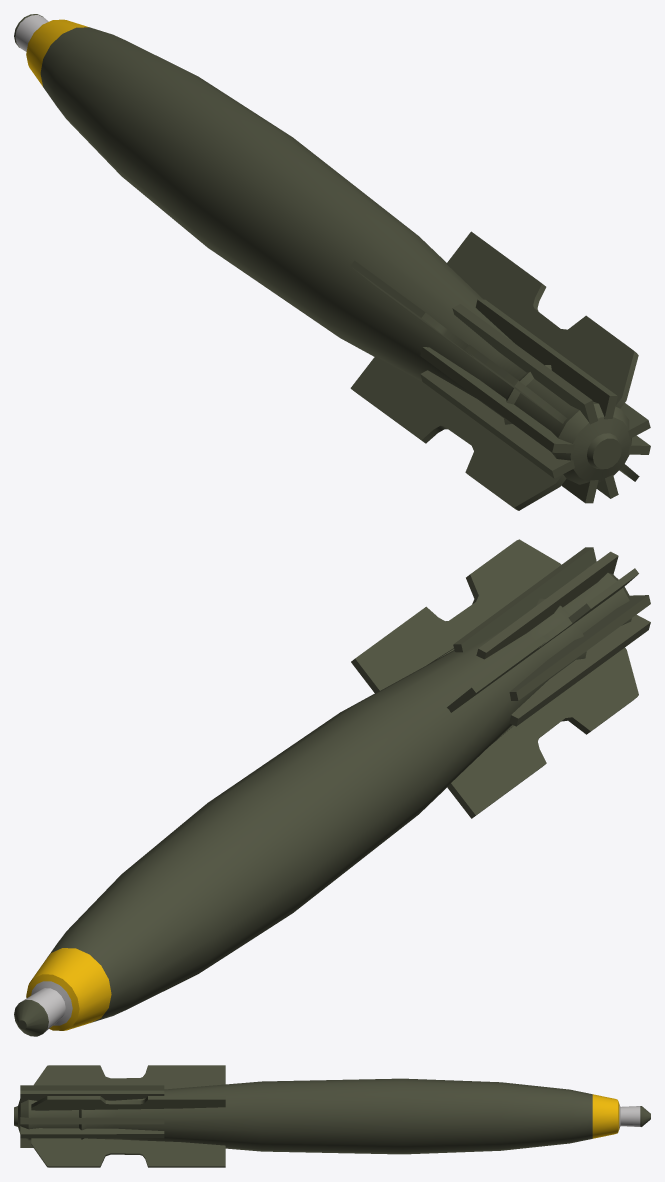
The model's file is snakeye.glb.
The picture shows the model from 3 angles, top to bottom: view 1: azimuth 30°, elevation 25°; view 2: azimuth 150°, elevation 25°; view 3: azimuth 270°, elevation 25°; orthographic projection. The views are drawn at different scales.
Visible parts, largest first — view 1: snakeye; view 2: snakeye; view 3: snakeye.
Part boxes in pixels (box(x1,y1,x2,y2)): snakeye: box(14, 14, 650, 510); snakeye: box(14, 539, 650, 1036); snakeye: box(14, 1065, 650, 1167).
Bounding box in the file's own units: 0.2876 × 0.2876 × 2.31.
